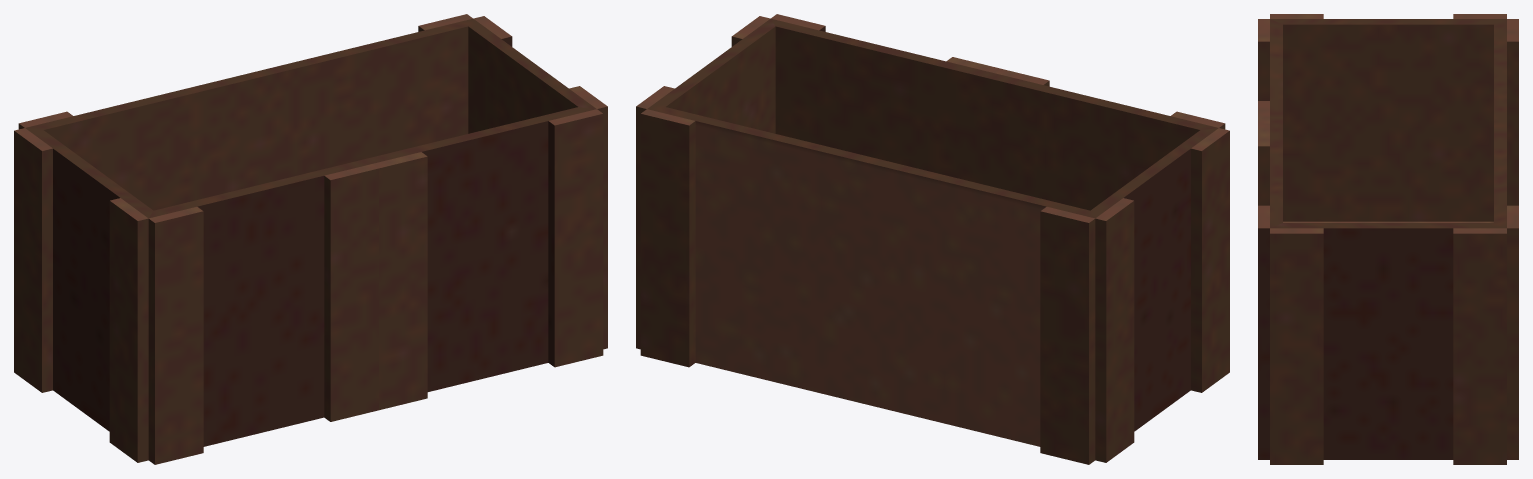
The model's file is wooden_chest 1.fbx.
3 renders of one model, left to right at view 1: azimuth 30°, elevation 25°; view 2: azimuth 150°, elevation 25°; view 3: azimuth 270°, elevation 25°, orthographic. The views are drawn at different scales.
Visible parts, largest first — view 1: Wooden Chest; view 2: Wooden Chest; view 3: Wooden Chest.
Boxes of the visible parts, bbox=[...] form: Wooden Chest: bbox=[14, 14, 607, 464]; Wooden Chest: bbox=[636, 14, 1229, 464]; Wooden Chest: bbox=[1258, 14, 1518, 464].
Size of the model in its own units: 2.21 by 1.11 by 1.09.
Materials: 1 (1 with a texture image).
